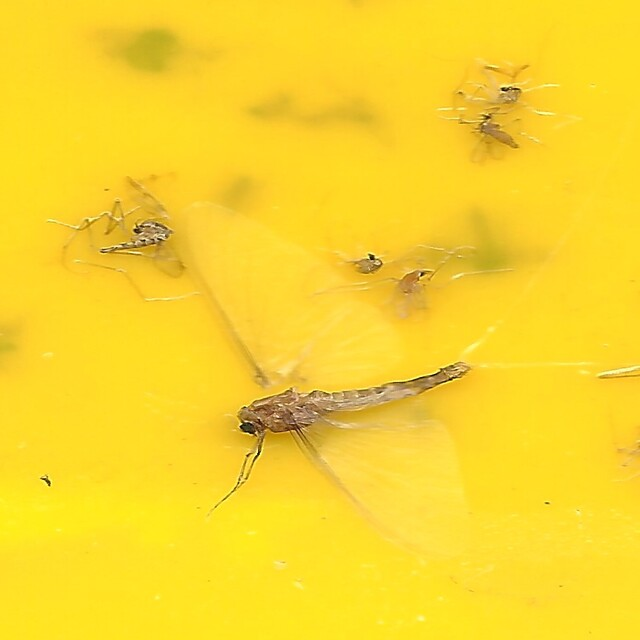Ephemeroptera: (171, 195, 492, 578)
Nematocera: (92, 219, 185, 278), (474, 62, 548, 116), (461, 108, 523, 153), (390, 258, 438, 310), (331, 249, 387, 278)
